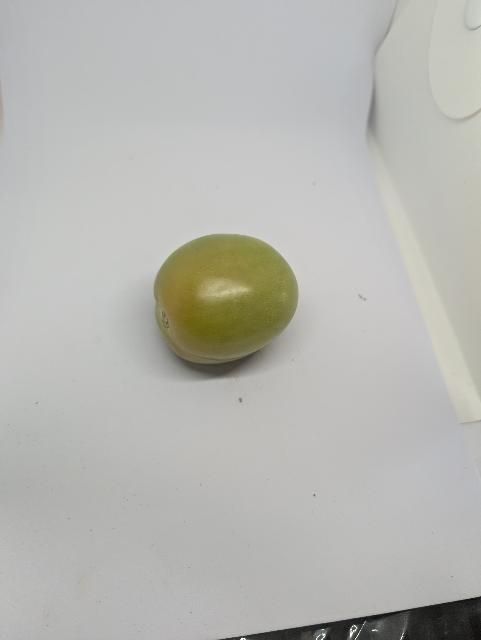breaker: (147, 232, 299, 372)
